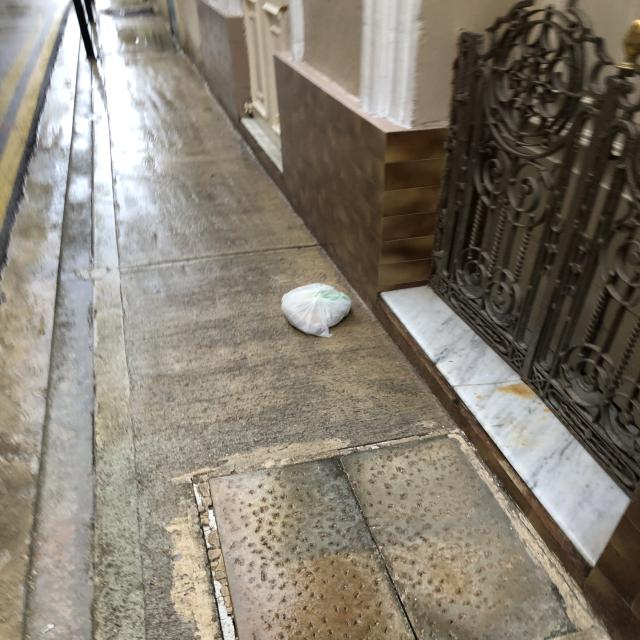Organic Waste -White Bag-: (283, 285, 355, 337)
